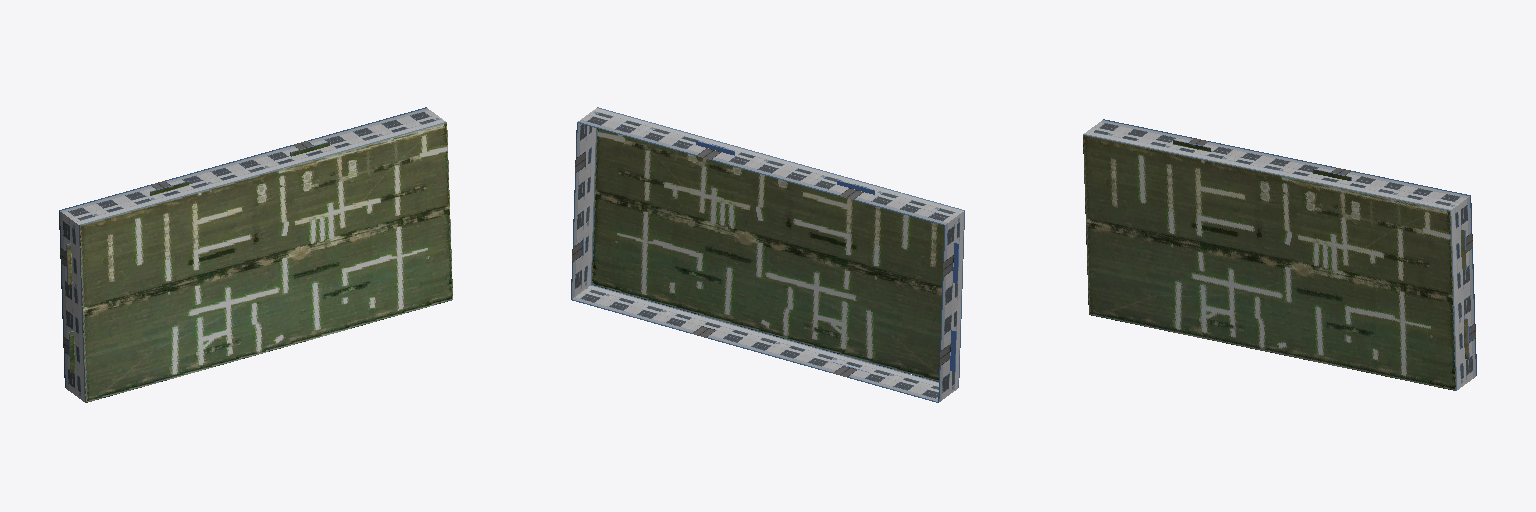
3 renders of one model, left to right at view 1: azimuth 30°, elevation 25°; view 2: azimuth 150°, elevation 25°; view 3: azimuth 330°, elevation 25°, orthographic.
Visible parts, largest first — view 1: Group_MatrixTransform_i95083_Geometry_10, Group_MatrixTransform_i95083_Geometry_1, Group_MatrixTransform_i95083_Geometry_0; view 2: Group_MatrixTransform_i95083_Geometry_10, Group_MatrixTransform_i95083_Geometry_1, Group_MatrixTransform_i95083_Geometry_0, Group_MatrixTransform_i95083_Geometry_11; view 3: Group_MatrixTransform_i95083_Geometry_10, Group_MatrixTransform_i95083_Geometry_1, Group_MatrixTransform_i95083_Geometry_0.
Boxes of the visible parts, box(x1,y1,x2,y2) form: Group_MatrixTransform_i95083_Geometry_10: box(80, 123, 452, 402); Group_MatrixTransform_i95083_Geometry_1: box(59, 107, 446, 357); Group_MatrixTransform_i95083_Geometry_0: box(59, 139, 334, 402); Group_MatrixTransform_i95083_Geometry_10: box(592, 128, 943, 381); Group_MatrixTransform_i95083_Geometry_1: box(571, 107, 964, 402); Group_MatrixTransform_i95083_Geometry_0: box(572, 135, 964, 402); Group_MatrixTransform_i95083_Geometry_11: box(583, 141, 958, 372); Group_MatrixTransform_i95083_Geometry_10: box(1083, 135, 1455, 390); Group_MatrixTransform_i95083_Geometry_1: box(1083, 119, 1476, 390); Group_MatrixTransform_i95083_Geometry_0: box(1168, 137, 1475, 358).
Size of the model in its own units: 81.24 by 39.59 by 7.73.
Materials: 12 (12 with a texture image).